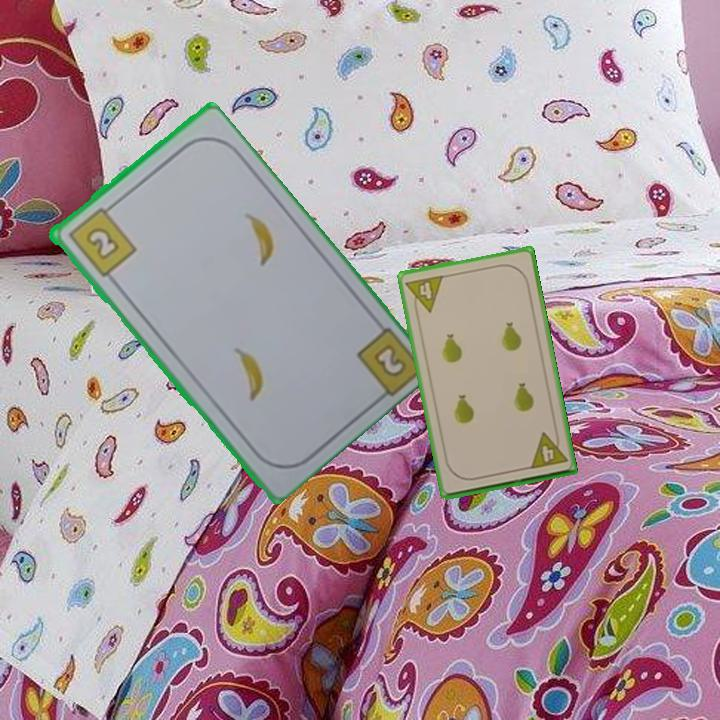2b: (64, 200, 139, 280), (373, 344, 406, 377)
4p: (402, 272, 446, 317), (526, 427, 570, 472)
